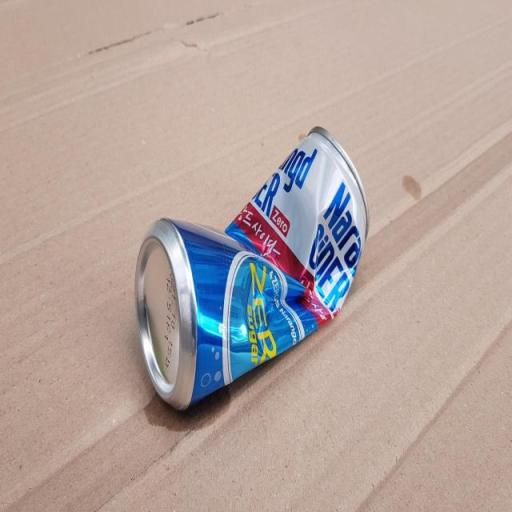metal: (128, 102, 374, 430)
